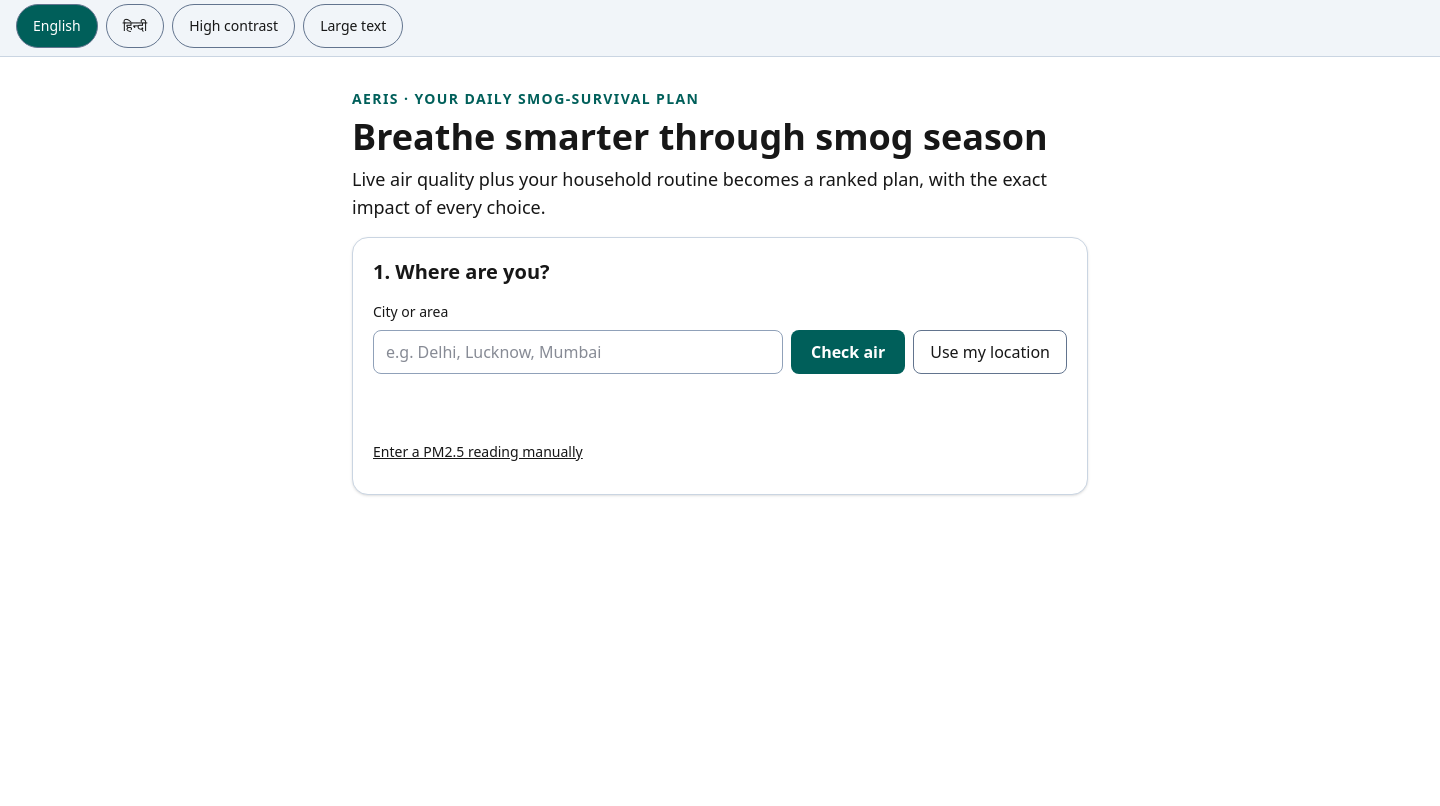
Scenario: live air › shows the live reading, chart and an equivalent data table
The width and height of the screenshot is (1440, 806).
Type "Delhi" into the field labelled "City or area".
click(578, 352); type("Delhi")  # box [373,330,783,374]
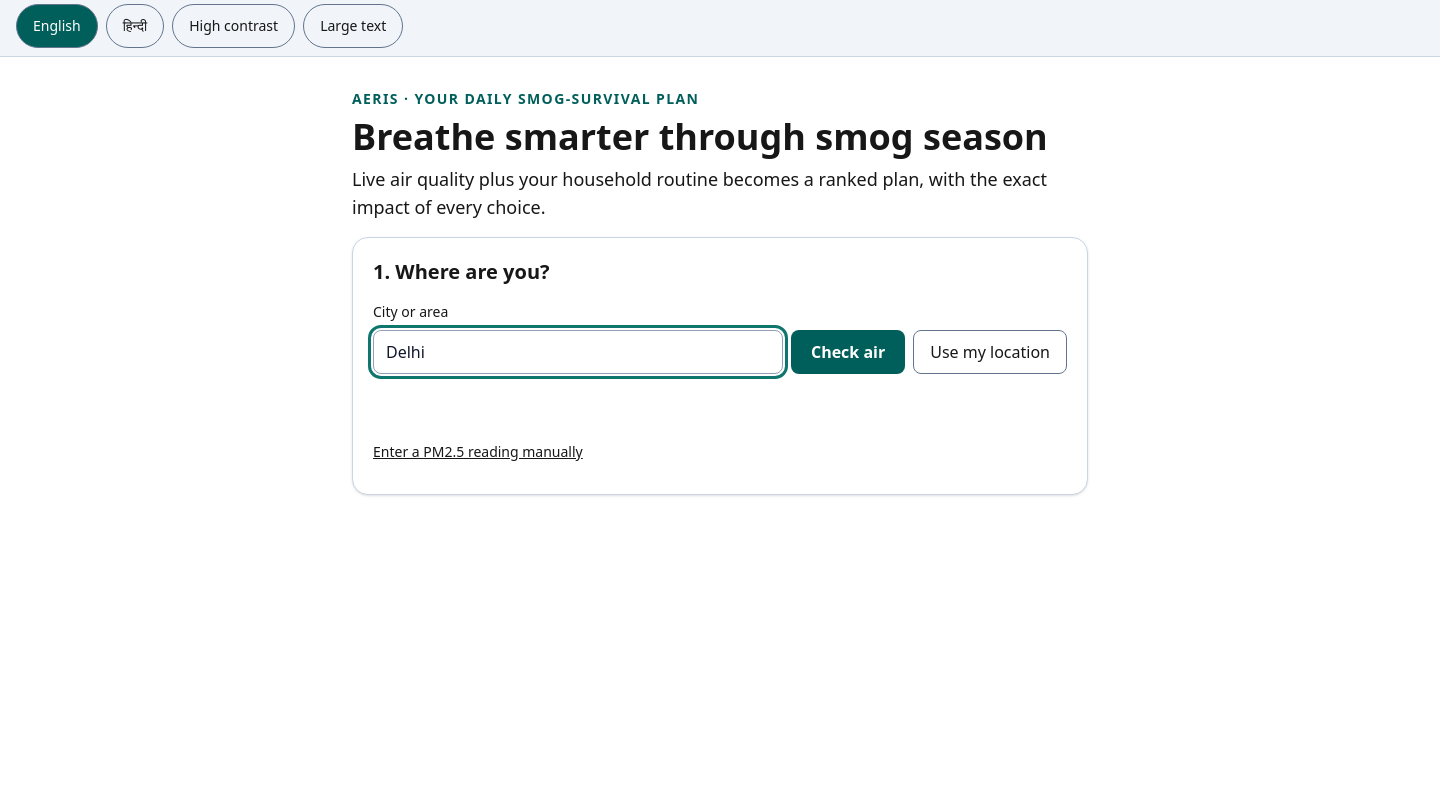
Click the button "Check air".
click(848, 352)  # box [791,330,905,374]
(page scrolled)
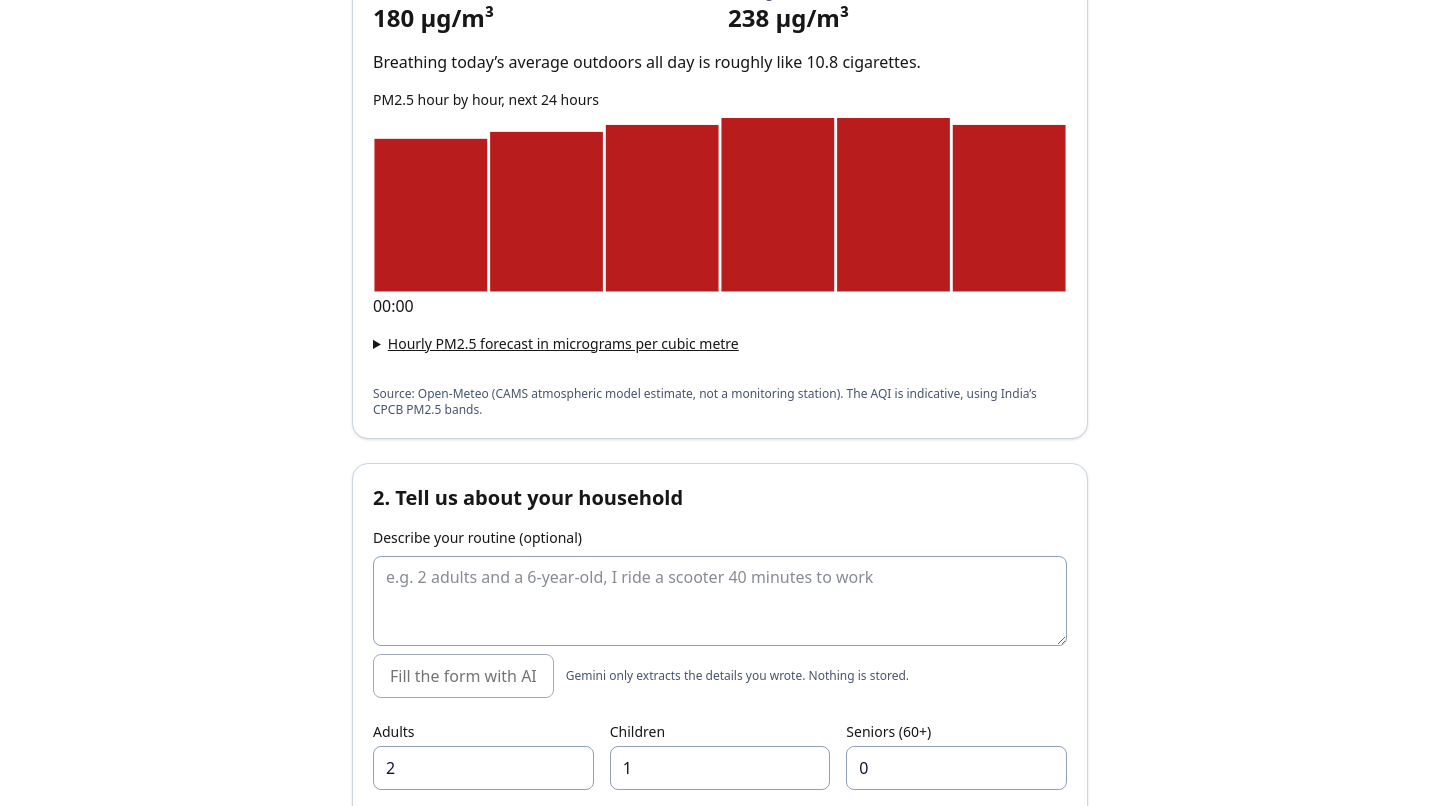
Expected: the picture named "pm2.5 hour by hour" is shown, [373,118,1067,318]
Expected: the text "Open-Meteo" is shown, [373,384,1037,418]
